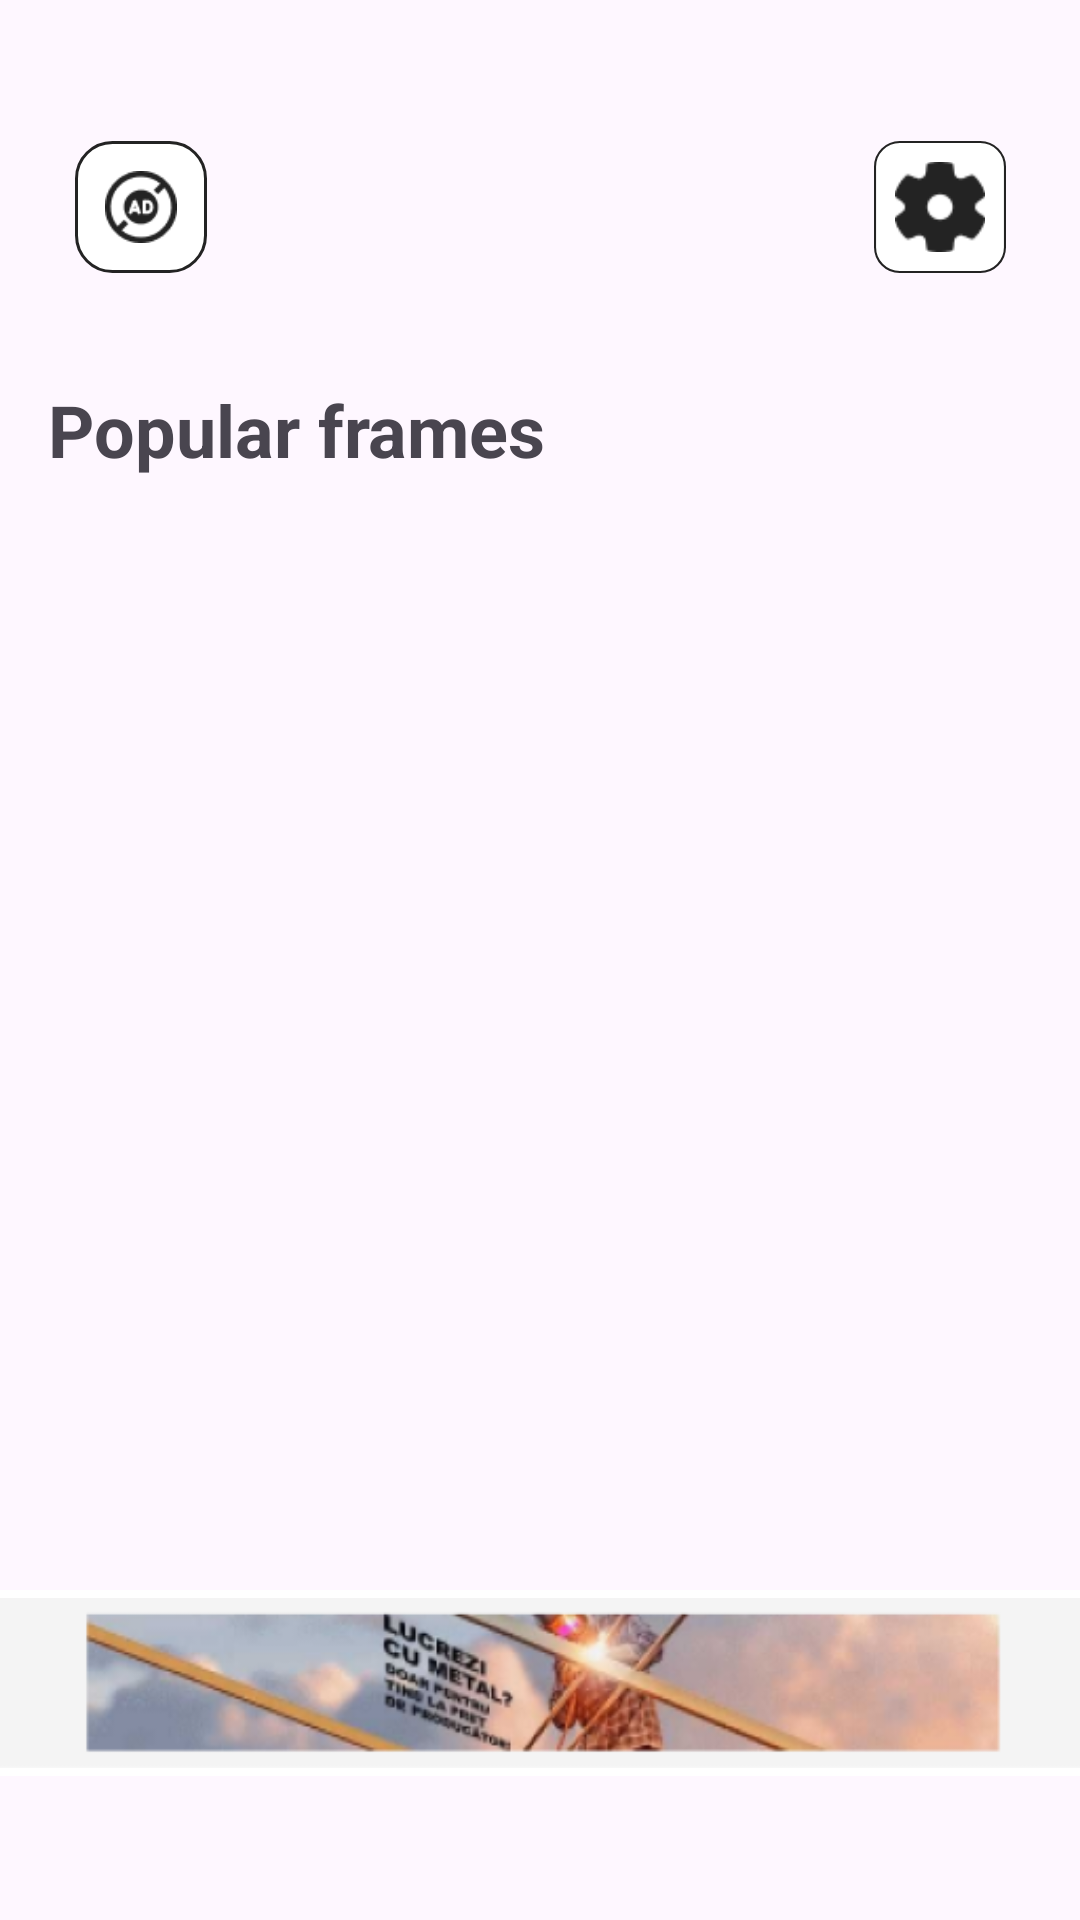

Named icons in this screenshot (1080 × 1920) and their centers, point (x, y):
settings: point (940, 207)
